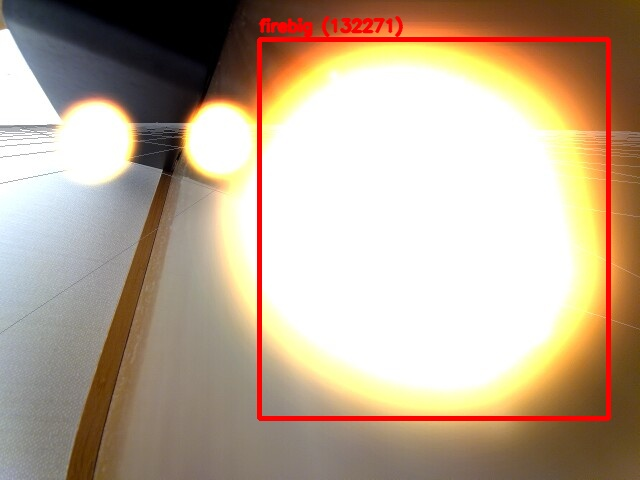firebig: (259, 39, 608, 418)
